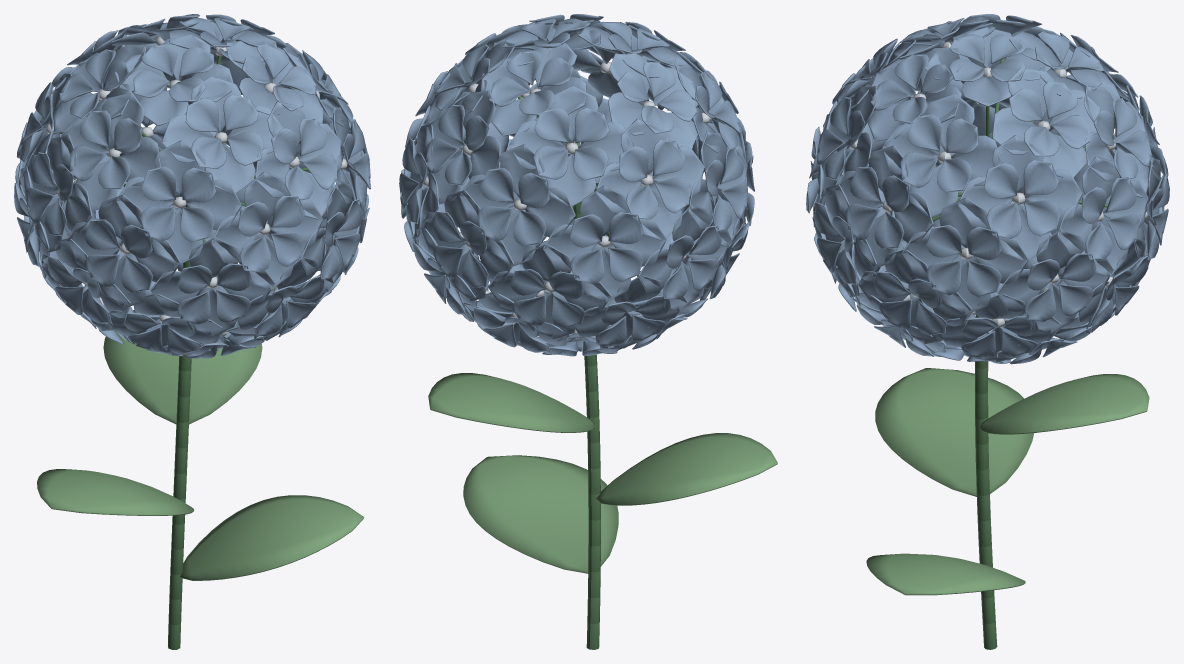
File: hydrangea-legendary-v2.glb
3 views of the same model, side by side, from view 1: azimuth 30°, elevation 25°; view 2: azimuth 150°, elevation 25°; view 3: azimuth 270°, elevation 25° (orthographic). The views are drawn at different scales.
Visible parts, largest first — view 1: hydrangea-legendary-v2-petal, hydrangea-legendary-v2-leaf, hydrangea-legendary-v2-stem, hydrangea-legendary-v2-center; view 2: hydrangea-legendary-v2-petal, hydrangea-legendary-v2-leaf, hydrangea-legendary-v2-stem, hydrangea-legendary-v2-center; view 3: hydrangea-legendary-v2-petal, hydrangea-legendary-v2-leaf, hydrangea-legendary-v2-stem, hydrangea-legendary-v2-center.
Boxes of the visible parts, x1,y1,x2,y2 form: hydrangea-legendary-v2-petal: [14, 14, 370, 358]; hydrangea-legendary-v2-leaf: [37, 310, 364, 580]; hydrangea-legendary-v2-stem: [59, 55, 308, 649]; hydrangea-legendary-v2-center: [46, 36, 347, 336]; hydrangea-legendary-v2-petal: [399, 14, 754, 356]; hydrangea-legendary-v2-leaf: [428, 373, 777, 573]; hydrangea-legendary-v2-stem: [518, 96, 616, 649]; hydrangea-legendary-v2-center: [423, 53, 717, 338]; hydrangea-legendary-v2-petal: [806, 14, 1169, 364]; hydrangea-legendary-v2-leaf: [866, 368, 1149, 595]; hydrangea-legendary-v2-stem: [908, 59, 1107, 649]; hydrangea-legendary-v2-center: [849, 41, 1147, 338].
Bounding box in the file's own units: 1.05 × 1.87 × 0.9926.
